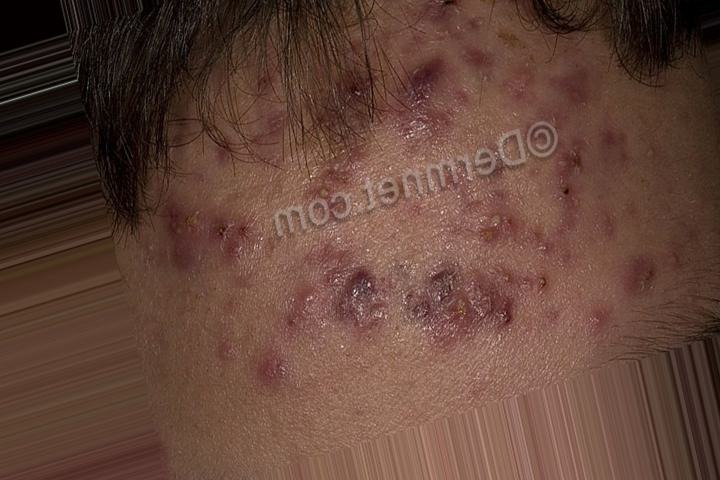Acne: (134, 32, 665, 382)
